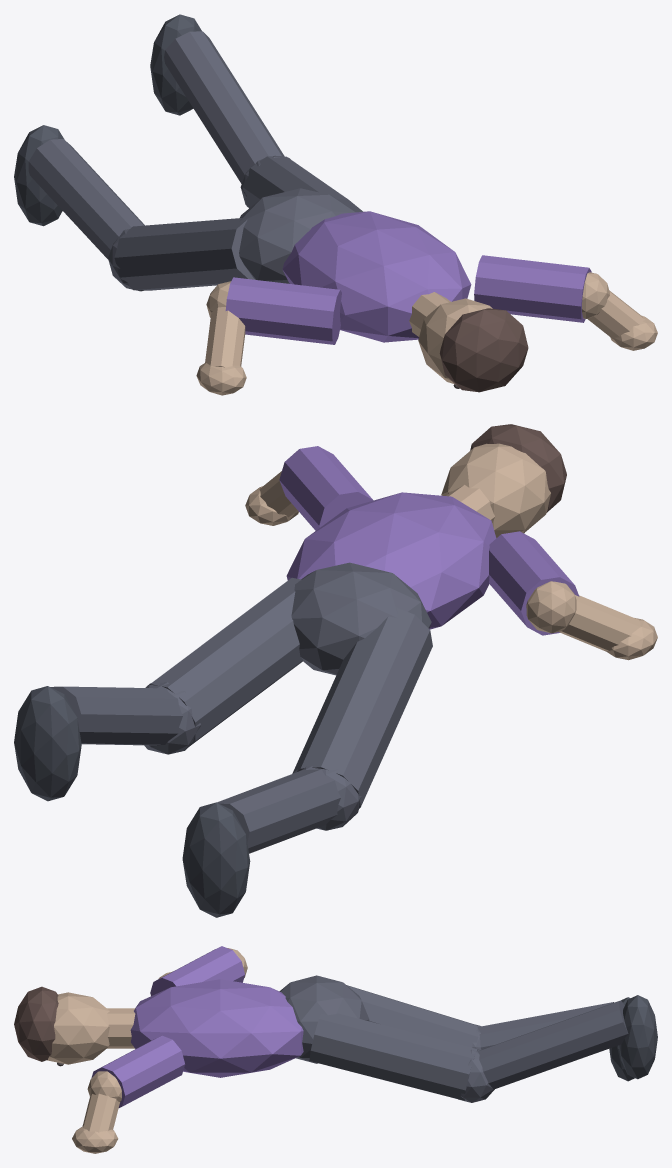
The picture shows the model from 3 angles, top to bottom: view 1: azimuth 30°, elevation 25°; view 2: azimuth 150°, elevation 25°; view 3: azimuth 270°, elevation 25°; orthographic projection. The views are drawn at different scales.
Visible parts, largest first — view 1: world; view 2: world; view 3: world.
Part boxes in pixels (bbox=[...]): world: bbox=[14, 14, 657, 395]; world: bbox=[14, 424, 657, 917]; world: bbox=[14, 946, 657, 1153].
Size of the model in its own units: 1.25 by 0.5125 by 2.07.
